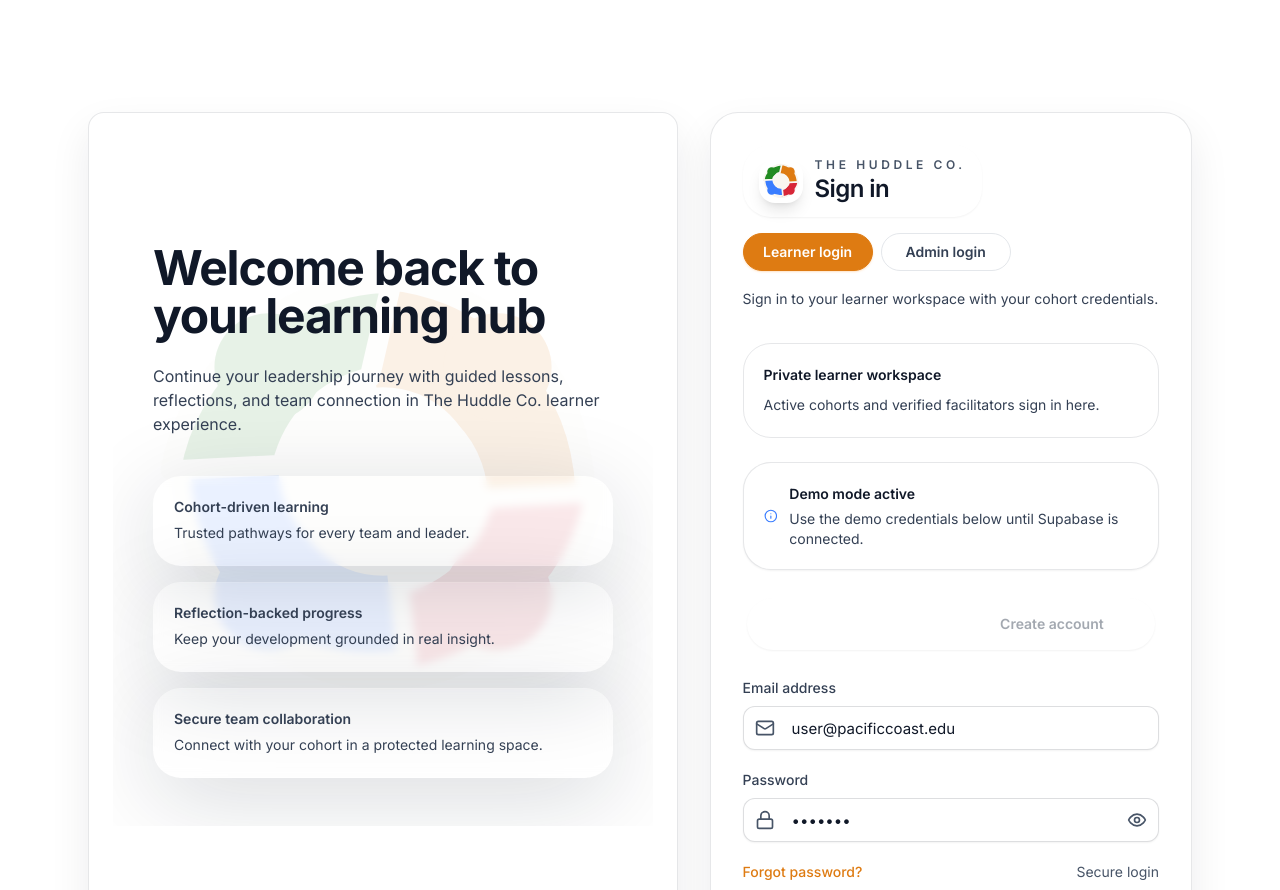
LMSLogin runtime awareness › shows a helpful message when forgot password is clicked offline
Click the button "Forgot password?" at (802,872), box [743,862,862,882]
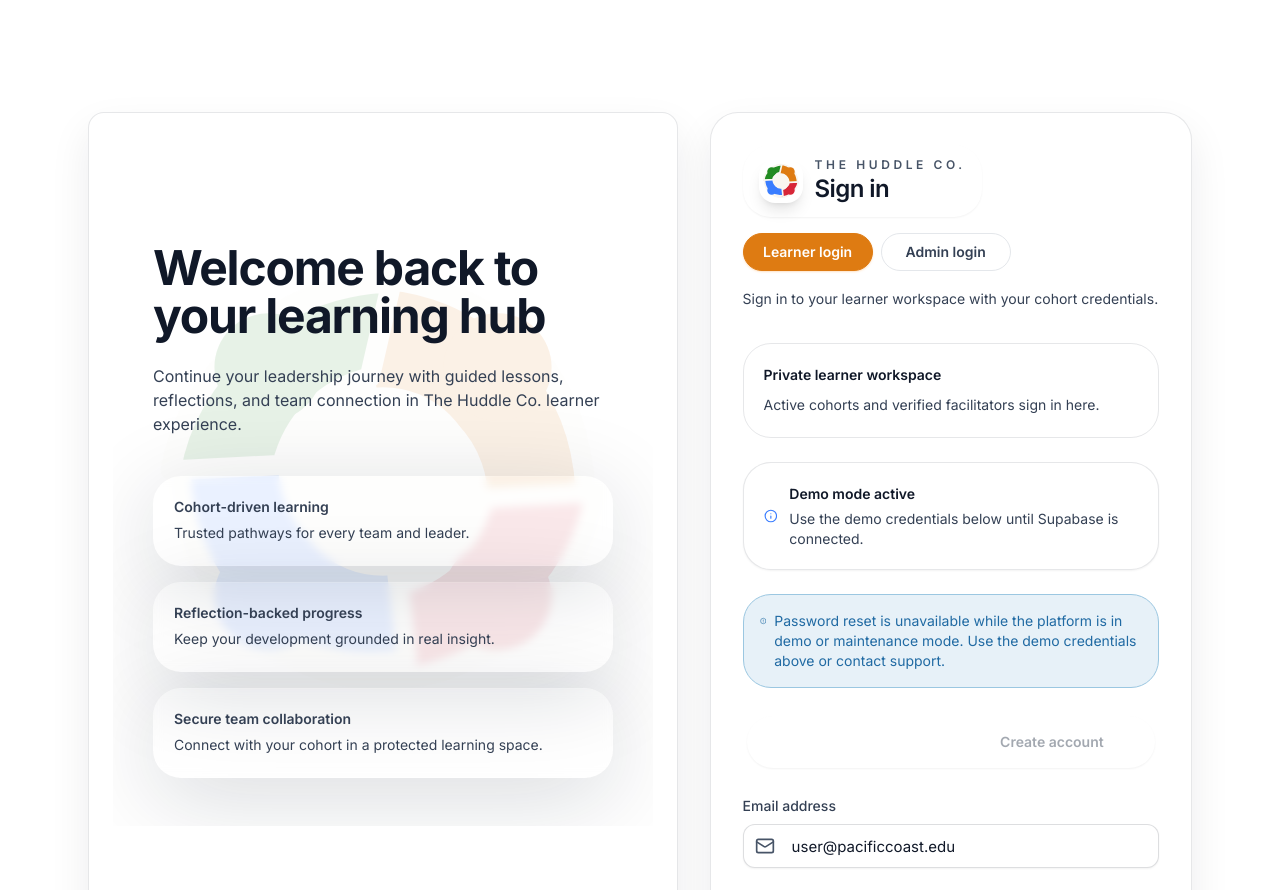
Result: the text "Password reset is unavailable while the platform is in demo or maintenance mode" is shown at [774,612,1136,669]
